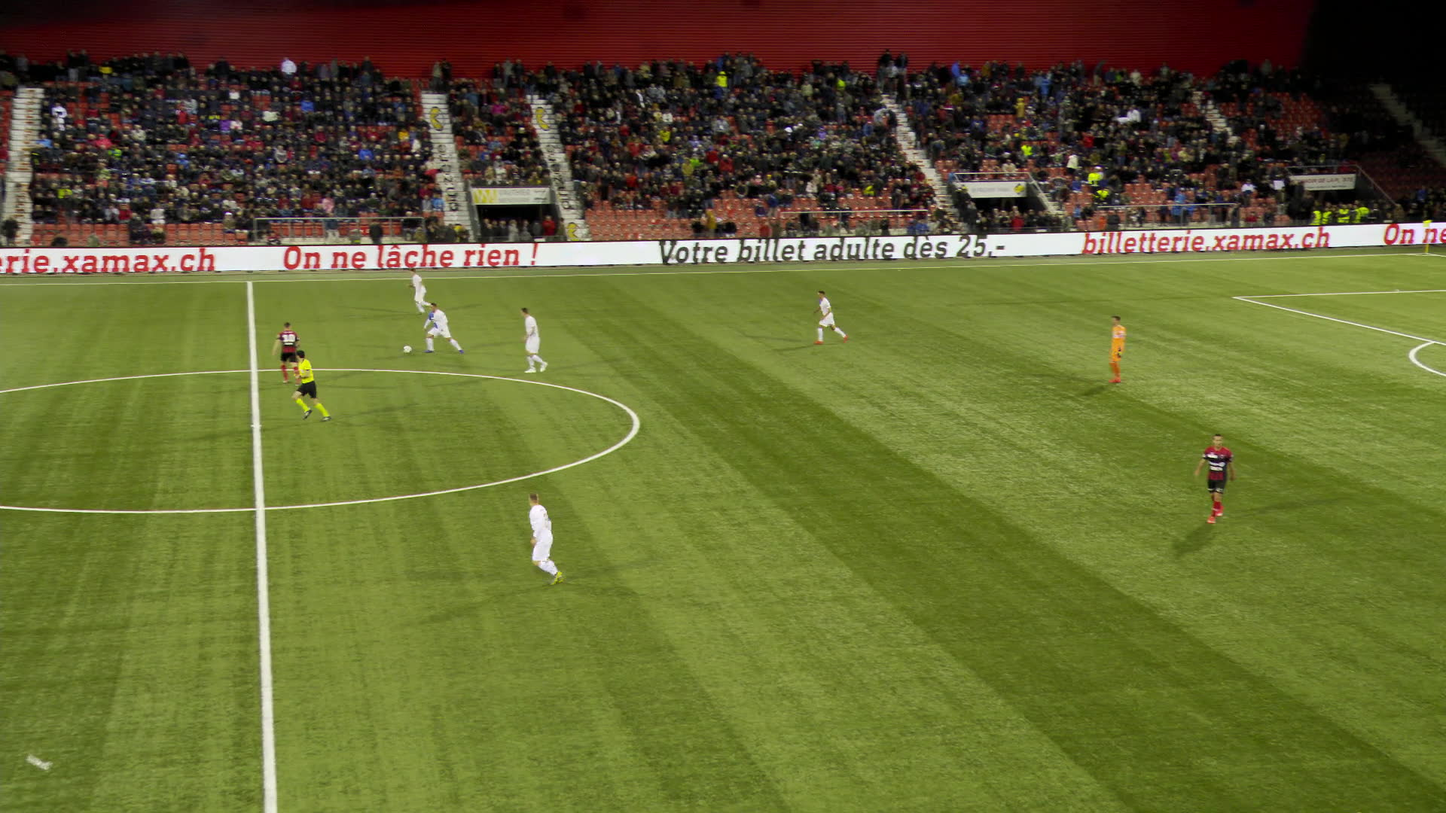ball: (401, 345, 410, 352)
player: (523, 487, 578, 583), (1197, 432, 1237, 522), (1099, 315, 1132, 383), (516, 307, 546, 373), (418, 303, 456, 354), (272, 320, 300, 385), (810, 289, 842, 344), (408, 266, 430, 312)
referee: (292, 349, 337, 422)
